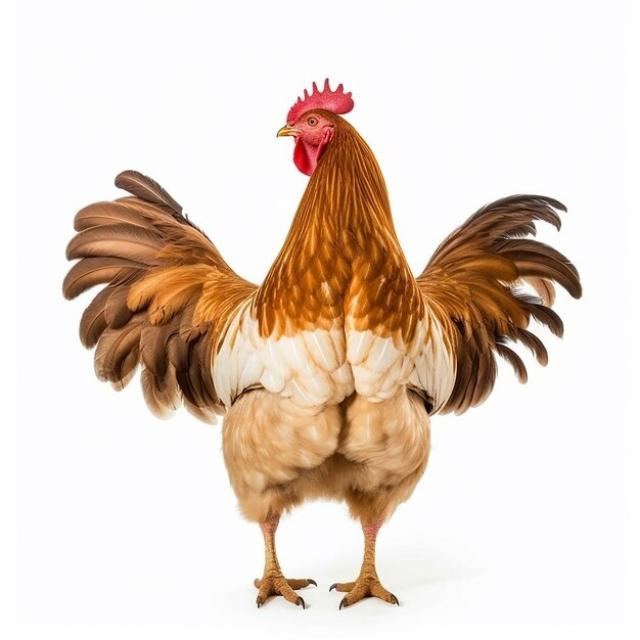Chicken: (59, 78, 582, 610)
